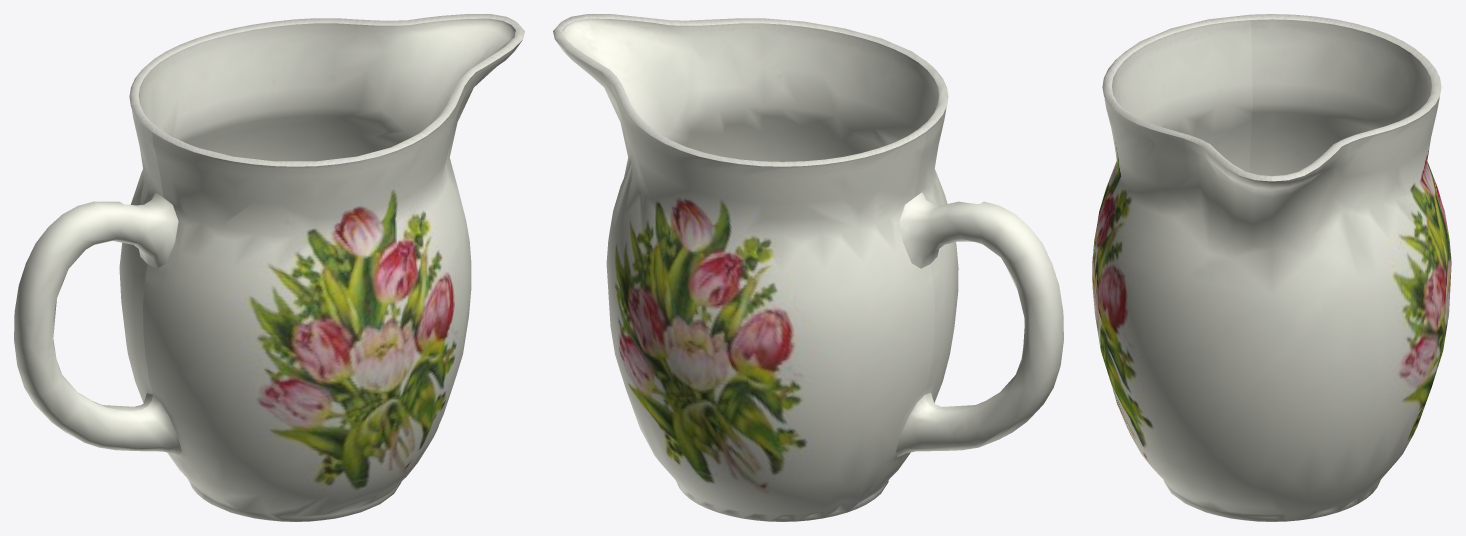
The model's file is PlasticJug.obj.
3 views of the same model, side by side, from view 1: azimuth 30°, elevation 25°; view 2: azimuth 150°, elevation 25°; view 3: azimuth 270°, elevation 25° (orthographic). The views are drawn at different scales.
Parts seen in each view (by area): view 1: Jug; view 2: Jug; view 3: Jug.
Boxes of the visible parts, <box> form: Jug: <box>14,14,524,521</box>; Jug: <box>553,14,1063,521</box>; Jug: <box>1092,14,1451,521</box>.
Bounding box in the file's own units: 0.275 × 0.2113 × 0.1676.
1 material, 1 textured.
